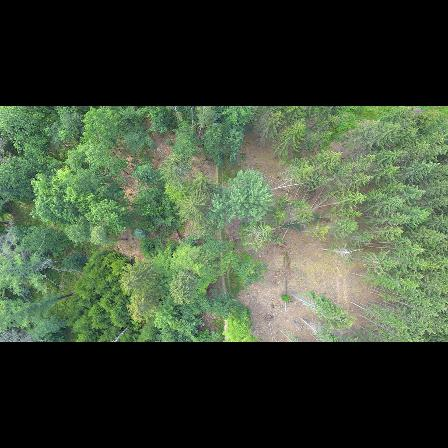Sick: (332, 243, 358, 263)
